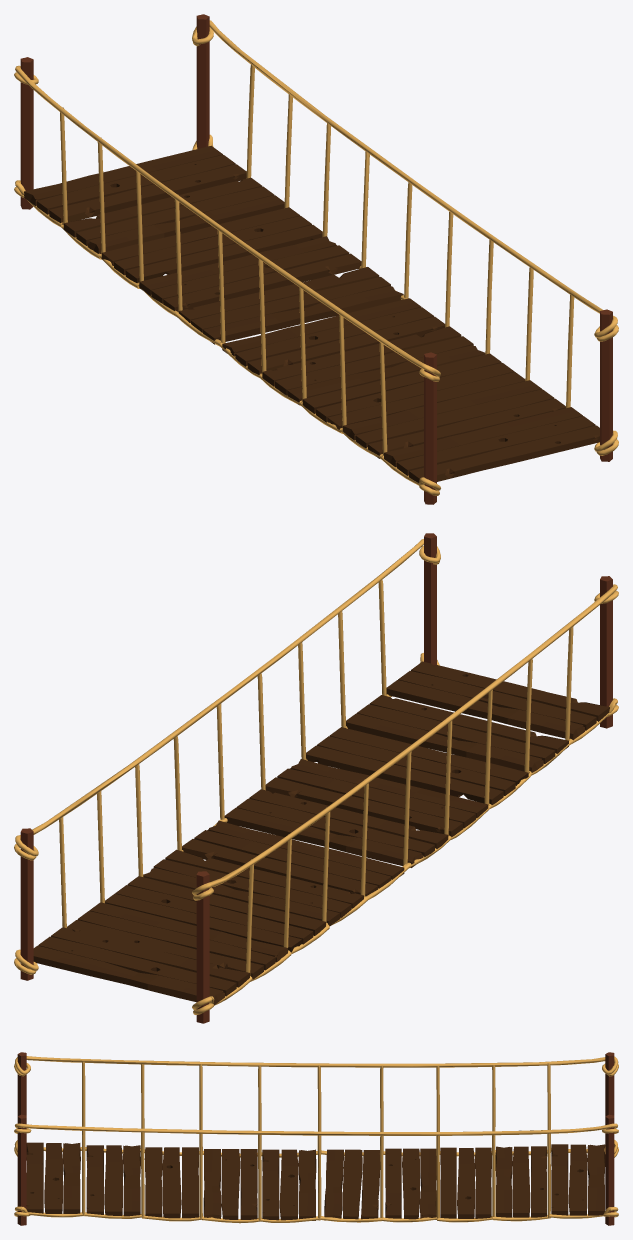
File: bridge.fbx
3 renders of one model, top to bottom at view 1: azimuth 30°, elevation 25°; view 2: azimuth 150°, elevation 25°; view 3: azimuth 270°, elevation 25°, orthographic. The views are drawn at different scales.
Visible parts, largest first — view 1: Bridge; view 2: Bridge; view 3: Bridge.
Part boxes in pixels (left/top/right/bottom): Bridge: left=14, top=14, right=618, bottom=504; Bridge: left=14, top=533, right=618, bottom=1023; Bridge: left=14, top=1052, right=618, bottom=1225.
Bounding box in the file's own units: 427 × 303 × 1552.
